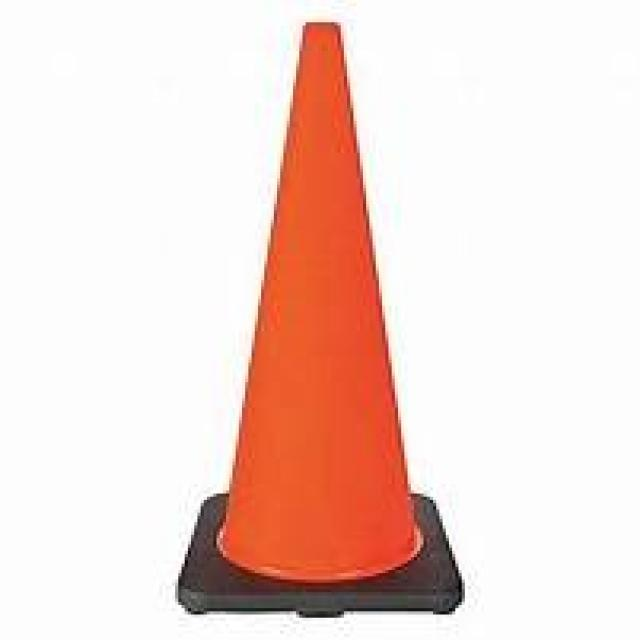traffic cone: (171, 12, 477, 623)
